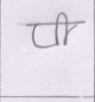i_matra: (58, 12, 72, 45)
